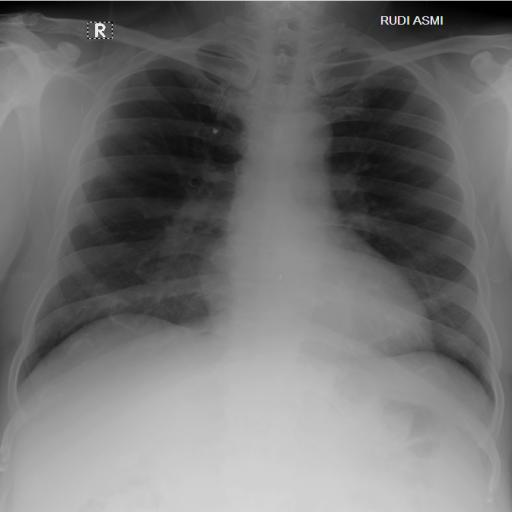kardiomegali: (6, 14, 504, 408)
